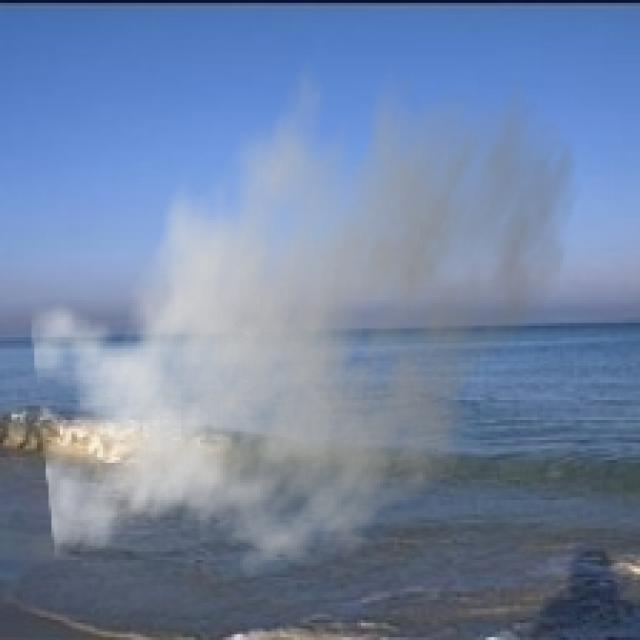smoke: (28, 26, 583, 594)
